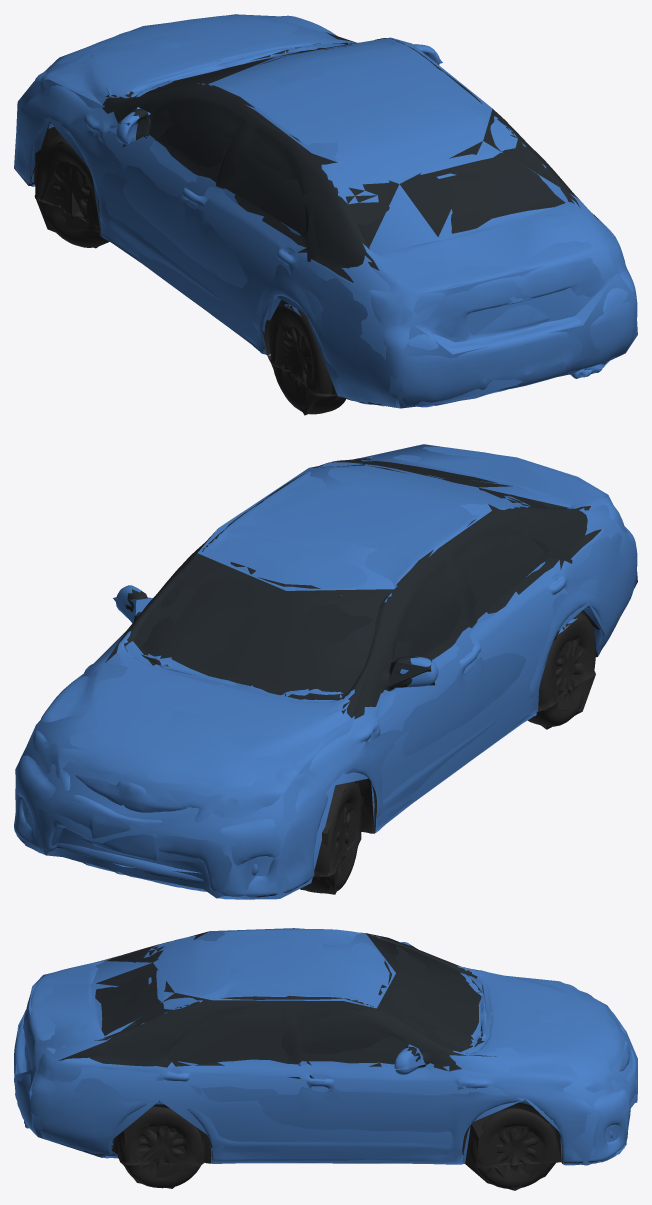
File: toyota-camry.glb
3 views of the same model, one above another, from view 1: azimuth 30°, elevation 25°; view 2: azimuth 150°, elevation 25°; view 3: azimuth 270°, elevation 25° (orthographic). The views are drawn at different scales.
Parts seen in each view (by area): view 1: body, far; view 2: body, far; view 3: body, far.
Part boxes in pixels (x1,y1,x2,y2): body: [15, 15, 637, 414]; far: [14, 14, 637, 415]; body: [14, 446, 637, 899]; far: [15, 444, 637, 899]; body: [14, 929, 637, 1188]; far: [15, 928, 637, 1190].
Size of the model in its own units: 2.23 by 1.54 by 4.86.
